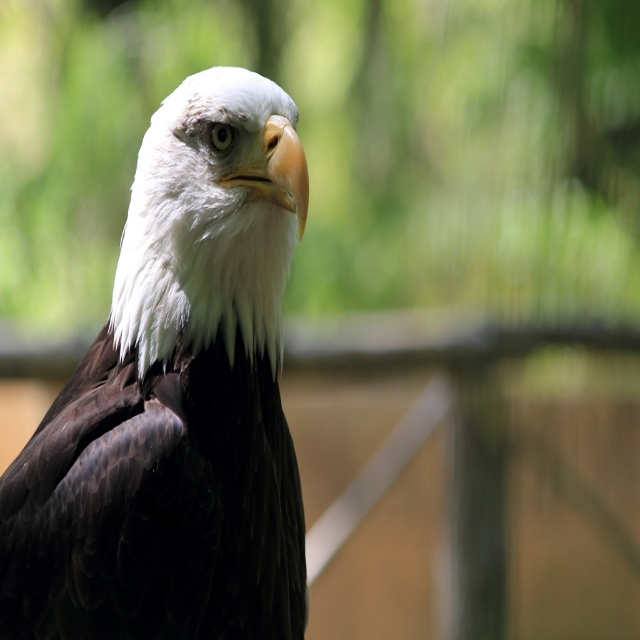Eagle: (0, 66, 310, 639)
